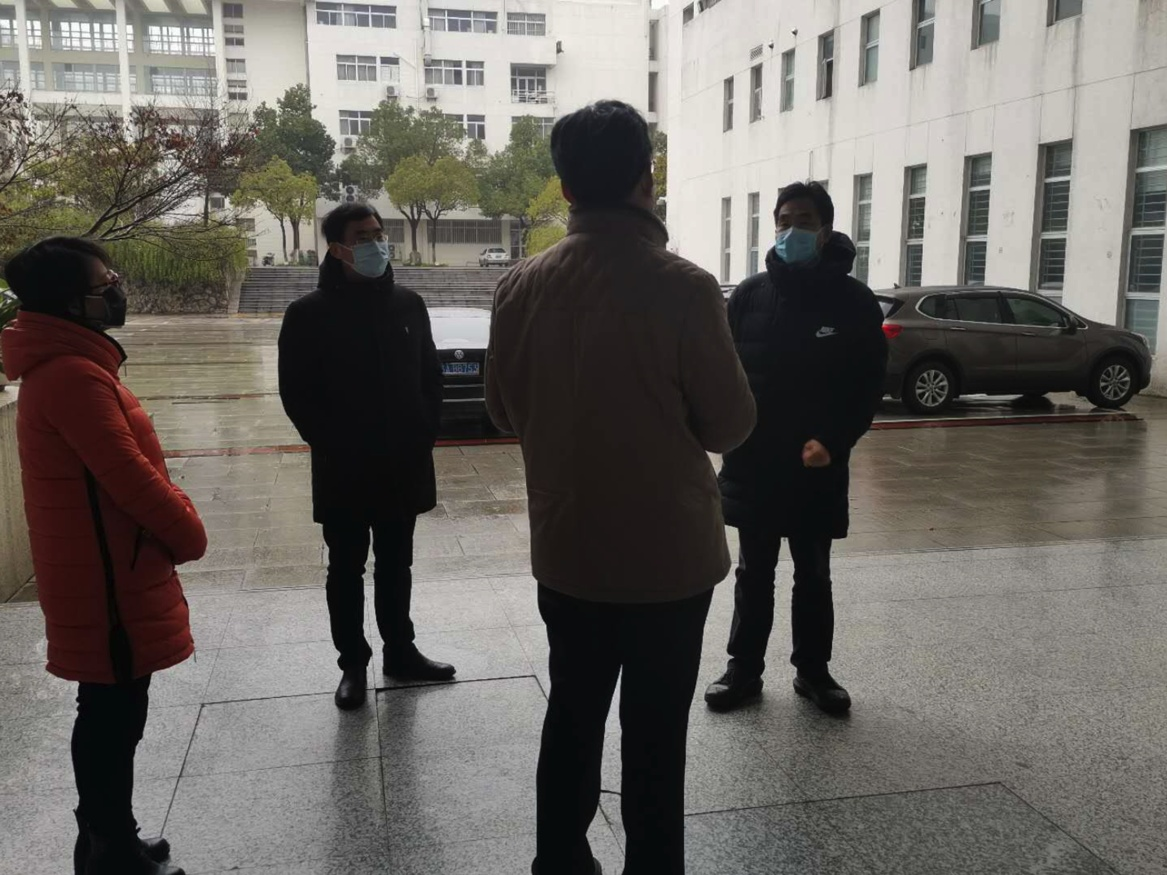correctlyWear: (61, 258, 129, 335), (770, 206, 835, 265), (328, 223, 390, 279)
